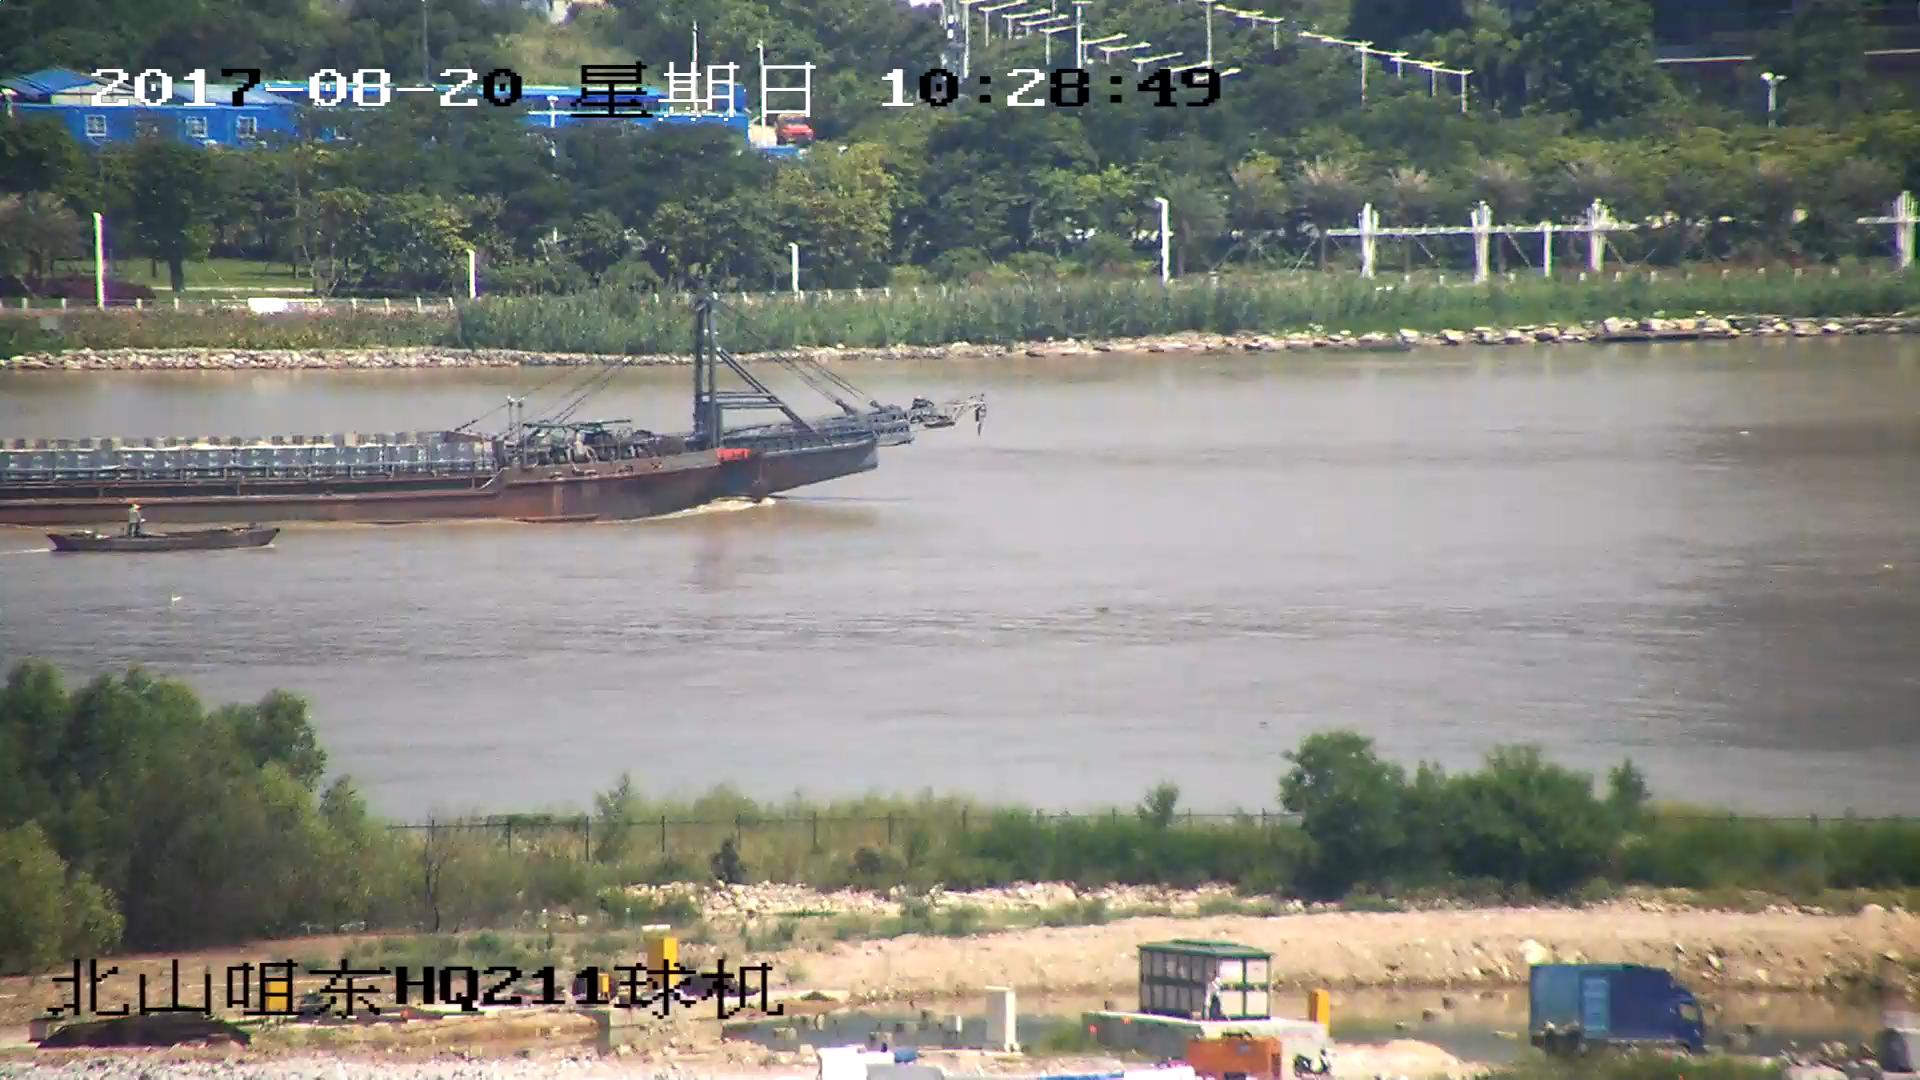fishing boat: (42, 505, 289, 558)
ore carrier: (1, 290, 974, 521)
